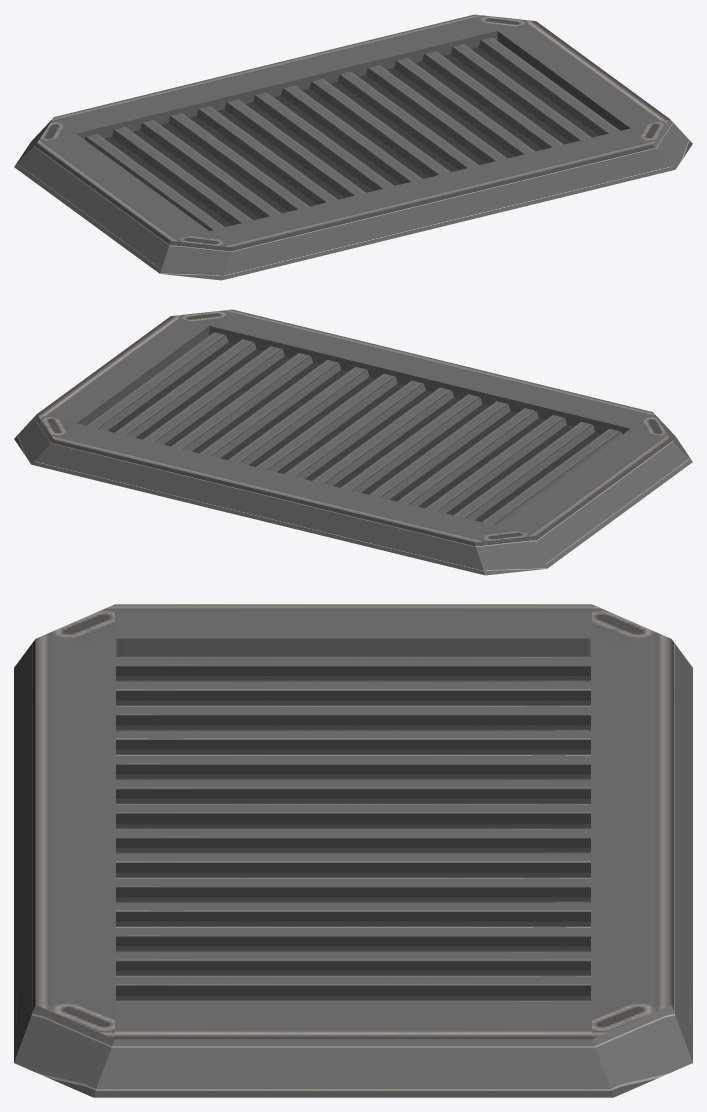
Rendered from Prop_Vent_Small.gltf.
3 views of the same model, one above another, from view 1: azimuth 30°, elevation 25°; view 2: azimuth 150°, elevation 25°; view 3: azimuth 270°, elevation 25° (orthographic). The views are drawn at different scales.
Parts seen in each view (by area): view 1: Prop_Vent_Small; view 2: Prop_Vent_Small; view 3: Prop_Vent_Small.
Boxes of the visible parts, x1=… form: Prop_Vent_Small: x1=14, y1=14, x2=692, y2=280; Prop_Vent_Small: x1=14, y1=309, x2=692, y2=575; Prop_Vent_Small: x1=14, y1=604, x2=692, y2=1097.
Bounding box in the file's own units: 1 × 0.0438 × 0.6183.
Materials: 3 (2 with a texture image).
